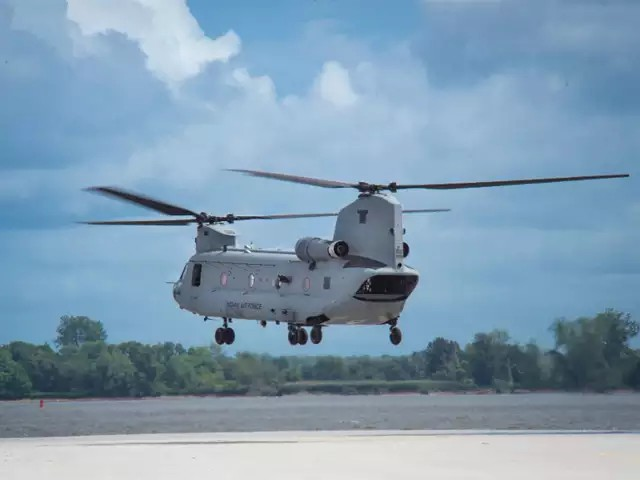chinook: (145, 169, 432, 352)
